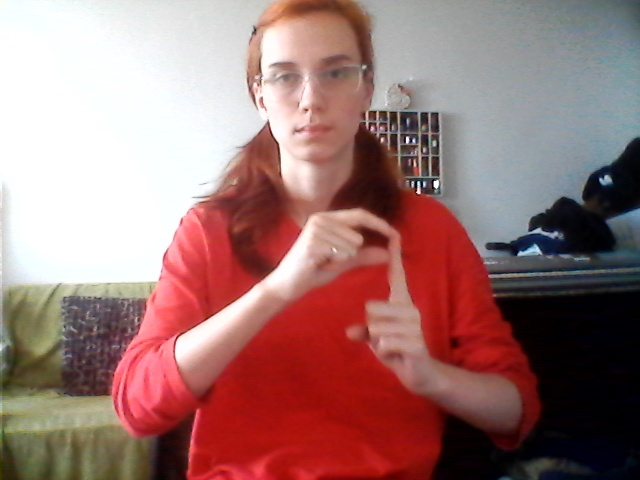p: (279, 203, 437, 404)
